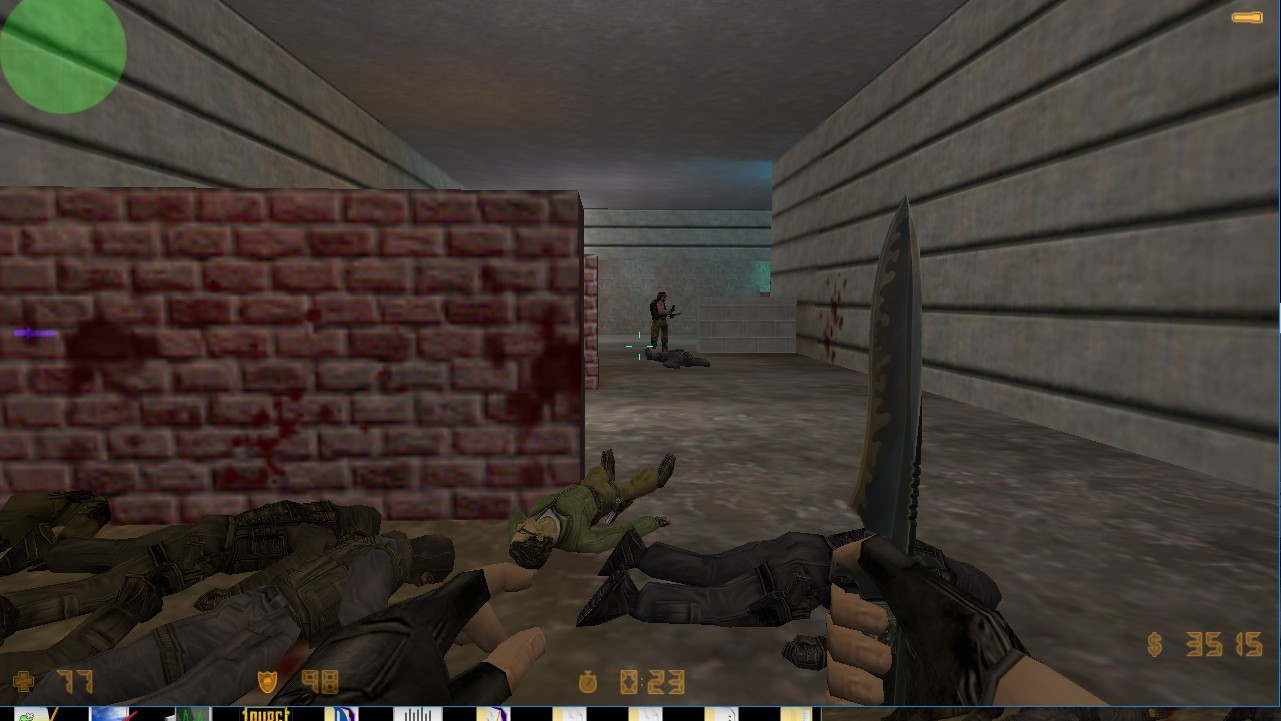person: (644, 290, 681, 353)
